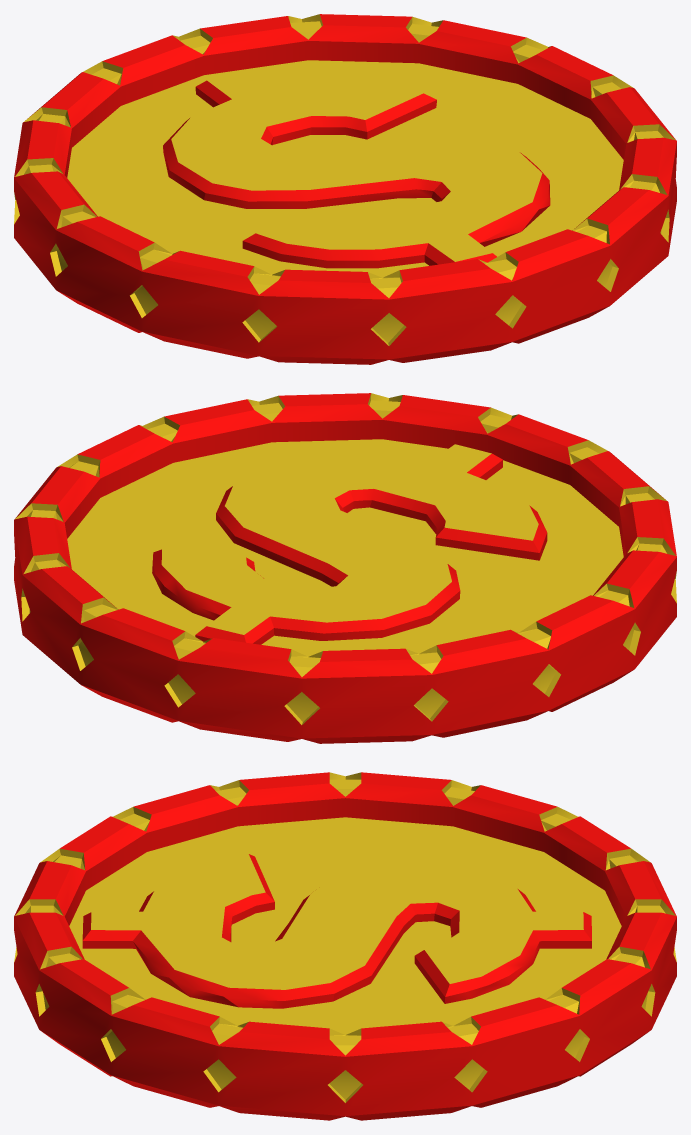
Rendered from coin.fbx.
3 renders of one model, top to bottom at view 1: azimuth 30°, elevation 25°; view 2: azimuth 150°, elevation 25°; view 3: azimuth 270°, elevation 25°, orthographic.
Parts seen in each view (by area): view 1: Circle; view 2: Circle; view 3: Circle.
Boxes of the visible parts, left/top/right/bottom form: Circle: left=14, top=14, right=676, bottom=364; Circle: left=14, top=393, right=676, bottom=743; Circle: left=14, top=772, right=676, bottom=1120.
Size of the model in its own units: 200 by 27 by 200.
